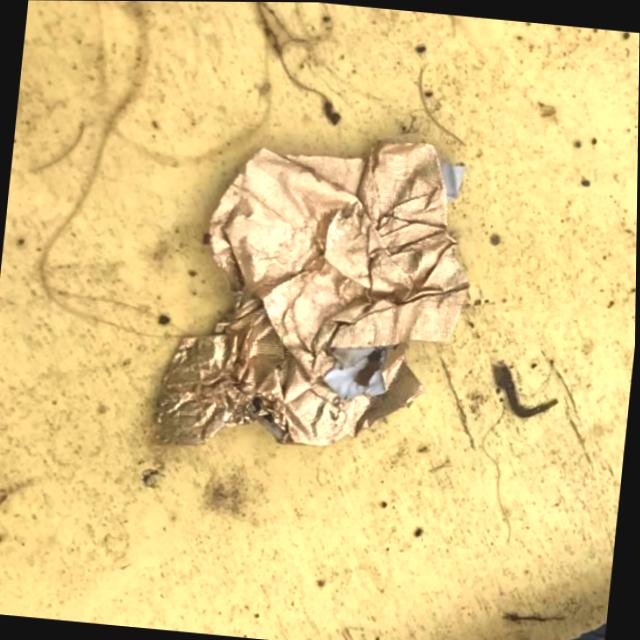Plastic: (145, 110, 490, 478)
